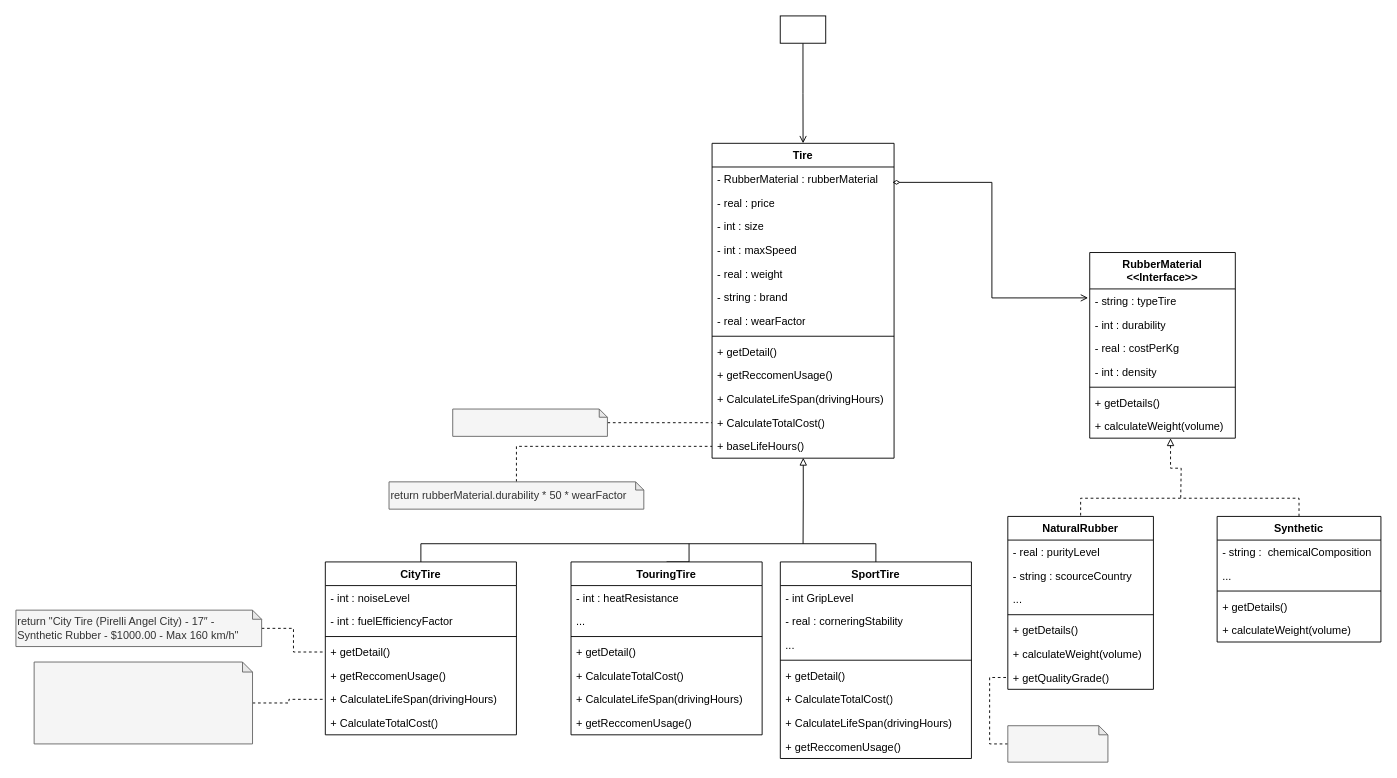
The diagram is 1397 pixels wide and 778 high, and some of its shapes have lost their labels. Here are the shapes that lost their labels. From the top down, the centre of each, then its label:
pixel 802 29: Client
pixel 529 422: return price + materialCost
pixel 143 702: life = BaseLifeHours() - drivingHours; if life < 0: return 0; else: return life;
pixel 1057 743: return "Premium" return "Good"
